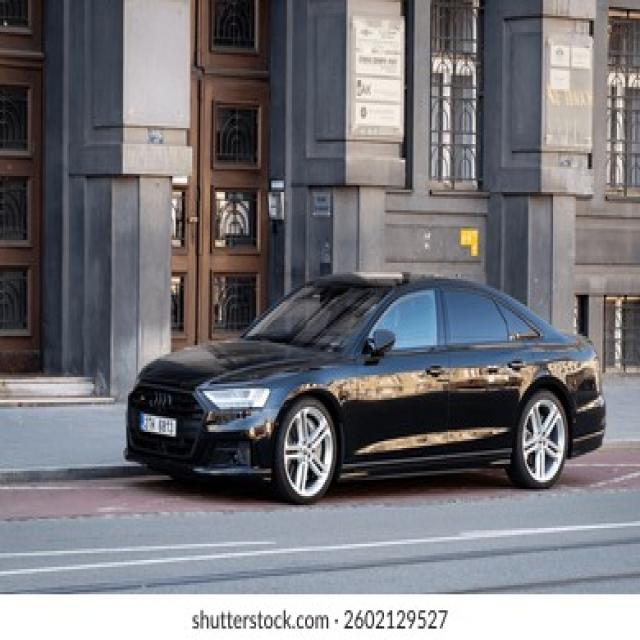audi: (146, 388, 177, 409)
